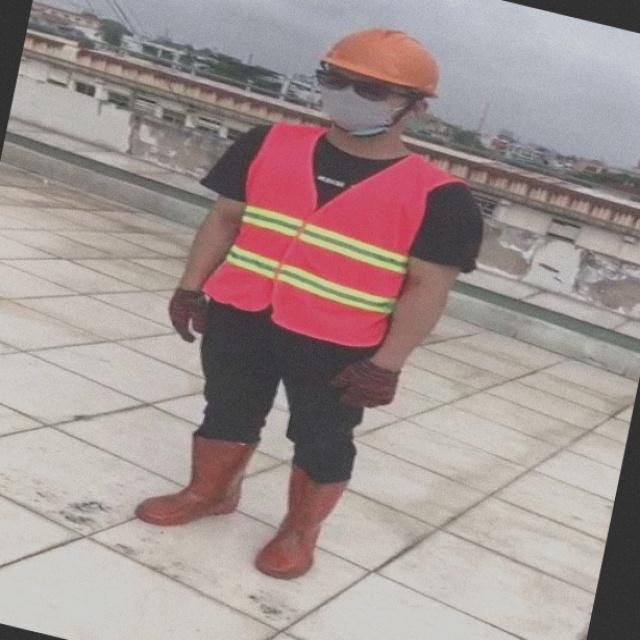helmet: (315, 19, 448, 99)
safety_vest: (188, 115, 472, 346)
